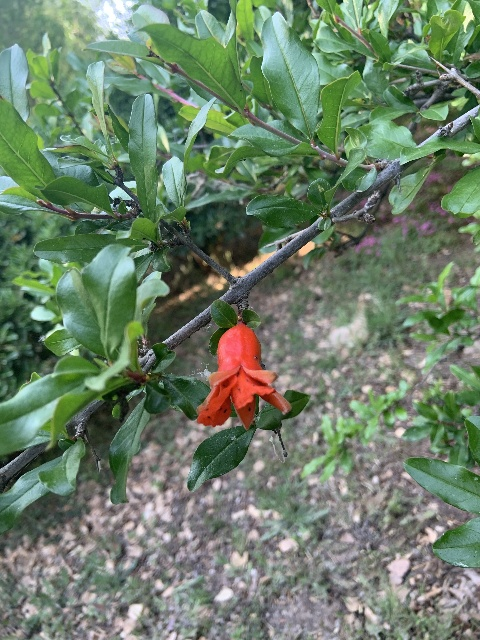flower: (195, 322, 289, 431)
